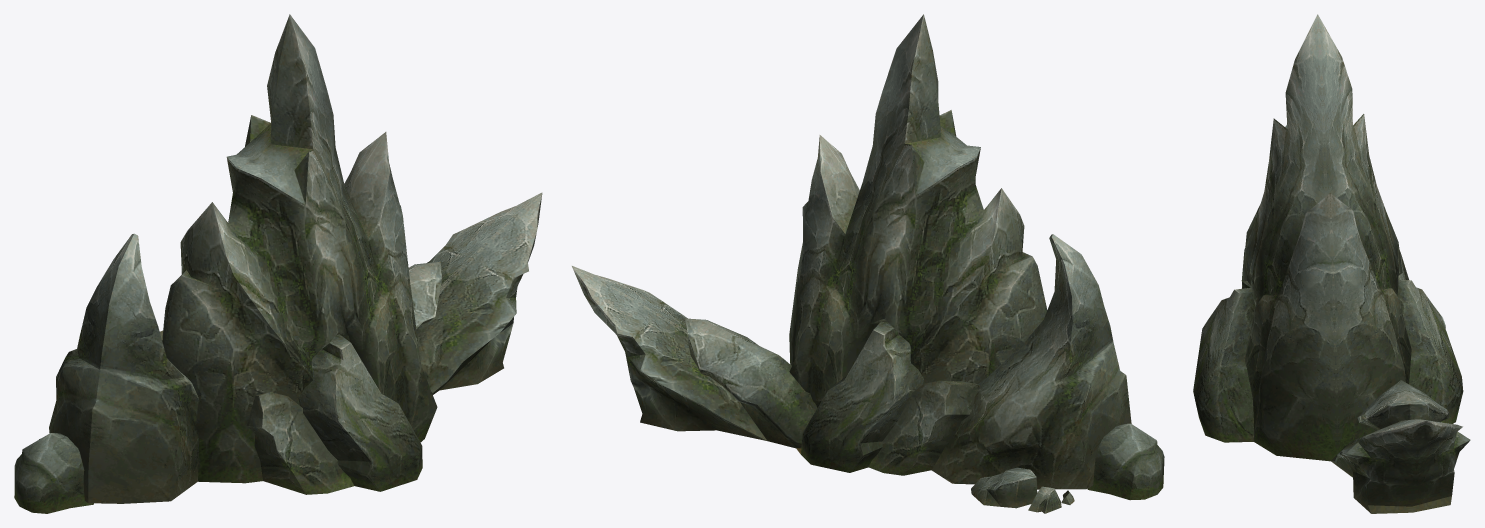
Rendered from 3004_Item_shitou_2.FBX.
The picture shows the model from 3 angles, left to right: view 1: azimuth 30°, elevation 25°; view 2: azimuth 150°, elevation 25°; view 3: azimuth 270°, elevation 25°; orthographic projection. The views are drawn at different scales.
Parts seen in each view (by area): view 1: 3004_Item_shitou_2; view 2: 3004_Item_shitou_2; view 3: 3004_Item_shitou_2.
Boxes of the visible parts, x1,y1,x2,y2 form: 3004_Item_shitou_2: (14, 14, 542, 513); 3004_Item_shitou_2: (572, 14, 1164, 513); 3004_Item_shitou_2: (1193, 14, 1470, 513).
Bounding box in the file's own units: 433 × 316 × 201.
